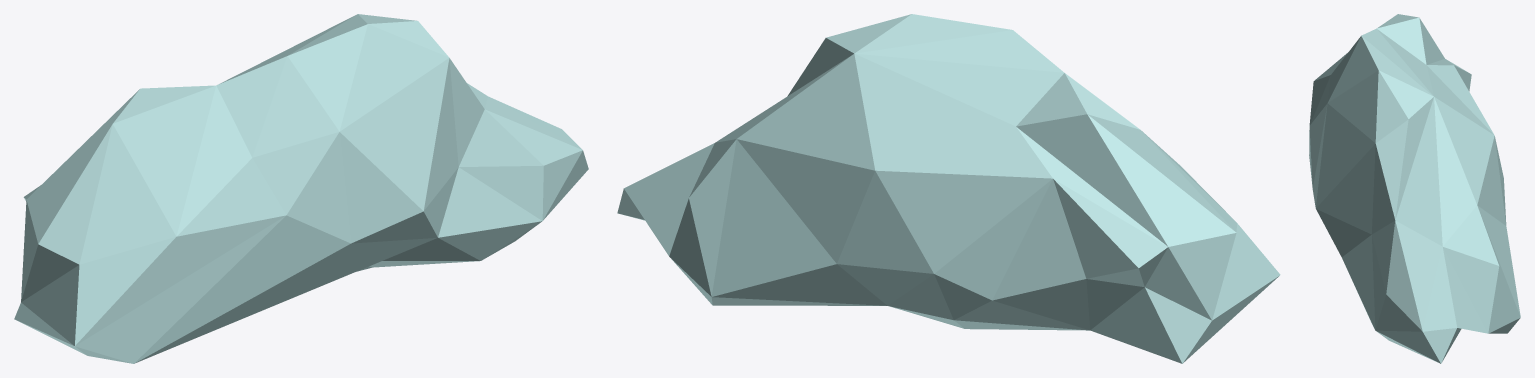
Rendered from cloud-021.glb.
The picture shows the model from 3 angles, left to right: view 1: azimuth 30°, elevation 25°; view 2: azimuth 150°, elevation 25°; view 3: azimuth 270°, elevation 25°; orthographic projection. The views are drawn at different scales.
Visible parts, largest first — view 1: cloud 16_44; view 2: cloud 16_44; view 3: cloud 16_44.
Part boxes in pixels (x1,y1,x2,y2): cloud 16_44: (14, 14, 588, 363); cloud 16_44: (617, 14, 1280, 363); cloud 16_44: (1309, 14, 1520, 363).
Size of the model in its own units: 1.68 by 0.7197 by 0.6411.
